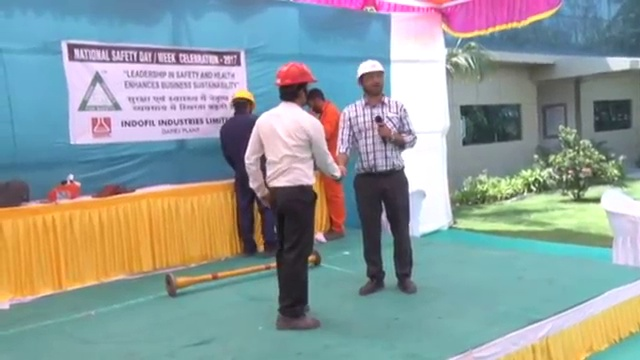helmet: (272, 61, 321, 86), (354, 56, 387, 80), (230, 87, 258, 107)
helmet_off: (305, 86, 327, 113)
helmet_on: (271, 59, 320, 112), (353, 55, 388, 103), (229, 86, 258, 120)
person: (245, 61, 341, 330), (337, 60, 418, 295), (219, 86, 278, 257), (305, 85, 348, 241)
